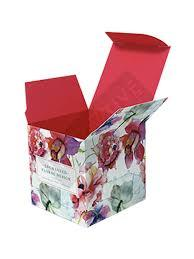cube: (30, 110, 148, 223)
